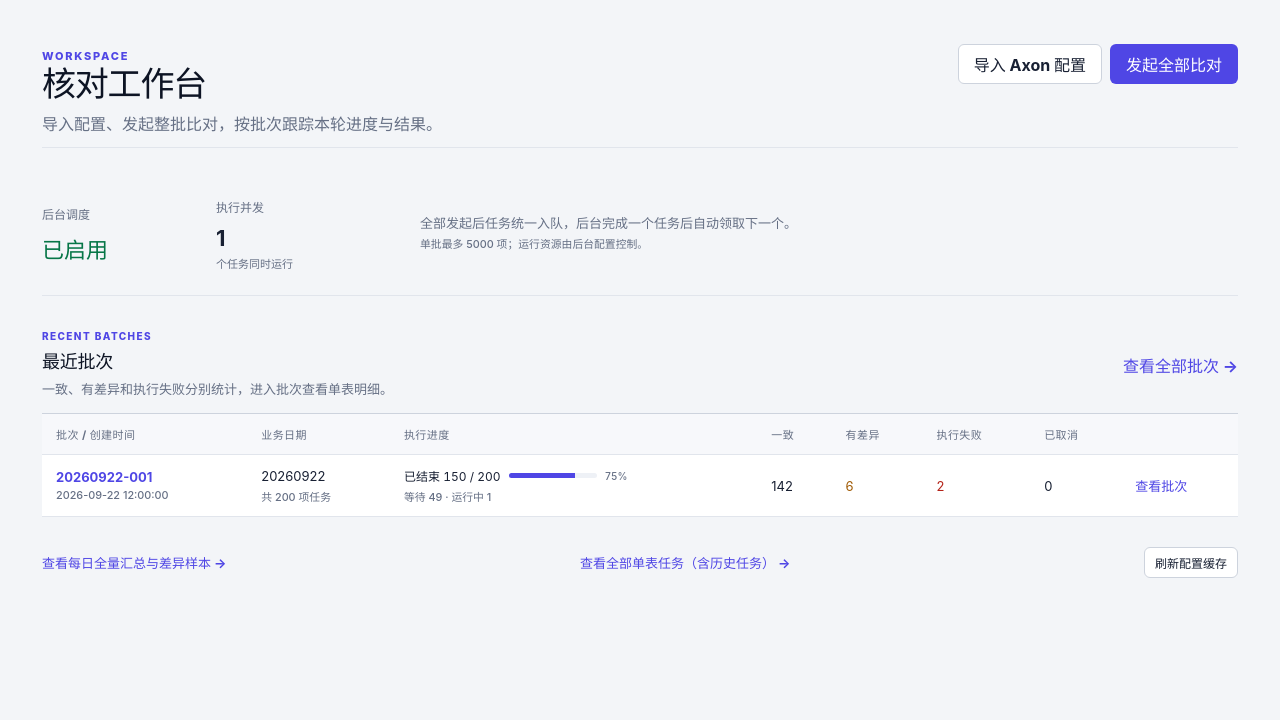
shows the server message when cache refresh returns a business failure
What coordinates should you click on to do the following:
click the button "刷新配置缓存"
I would click on:
 (1191, 563)
Its box is [1144,547,1238,578].
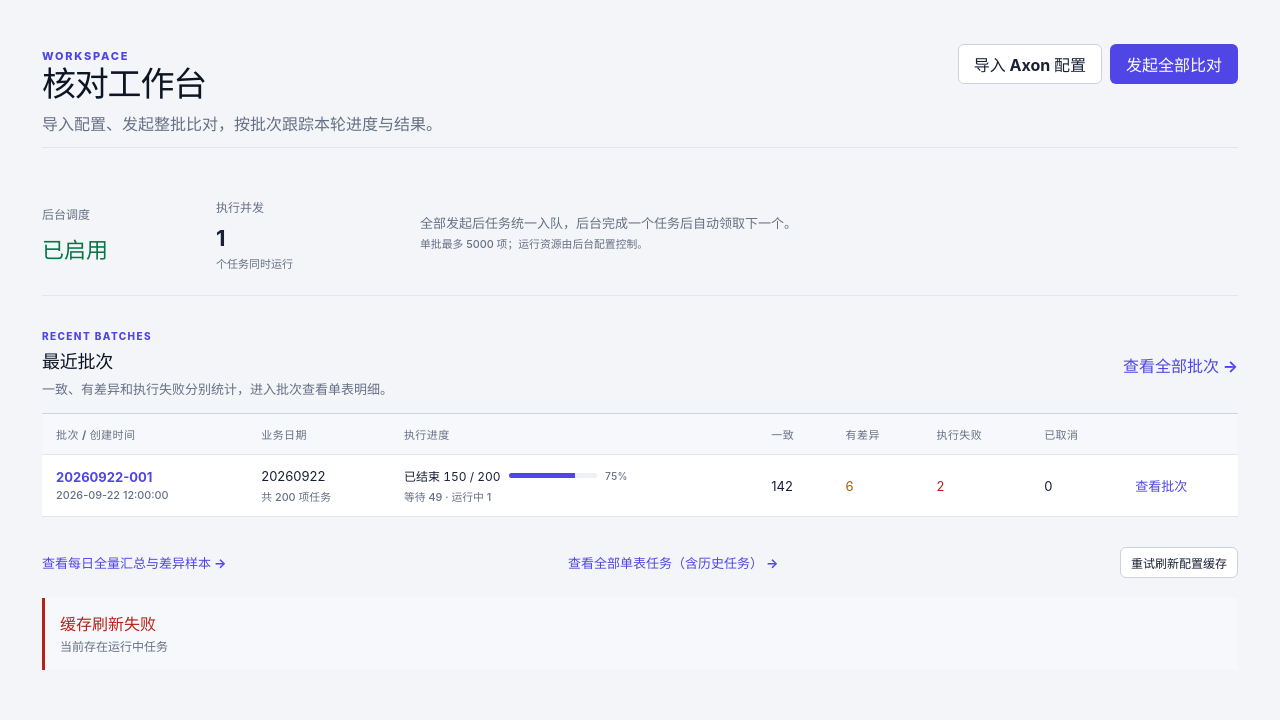
Now the text "当前存在运行中任务" is shown, box [60,638,168,657]
